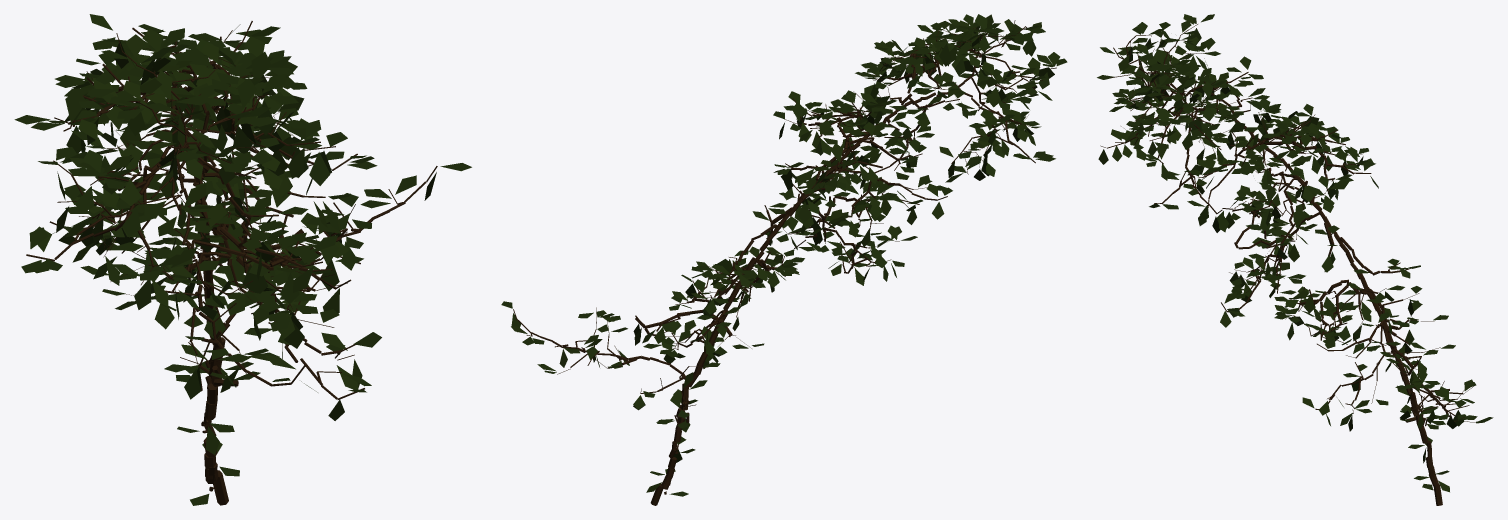
Rendered from tree_449.obj.
3 views of the same model, side by side, from view 1: azimuth 30°, elevation 25°; view 2: azimuth 150°, elevation 25°; view 3: azimuth 270°, elevation 25° (orthographic). The views are drawn at different scales.
Parts seen in each view (by area): view 1: Leaves, TrunkAndBranches; view 2: Leaves, TrunkAndBranches; view 3: Leaves, TrunkAndBranches.
Part boxes in pixels (x1,y1,x2,y2): Leaves: (14, 14, 471, 505); TrunkAndBranches: (26, 21, 437, 505); Leaves: (501, 14, 1067, 496); TrunkAndBranches: (513, 20, 1056, 505); Leaves: (1097, 14, 1493, 492); TrunkAndBranches: (1100, 24, 1475, 505).
Bounding box in the file's own units: 6.45 × 6.51 × 5.85.
